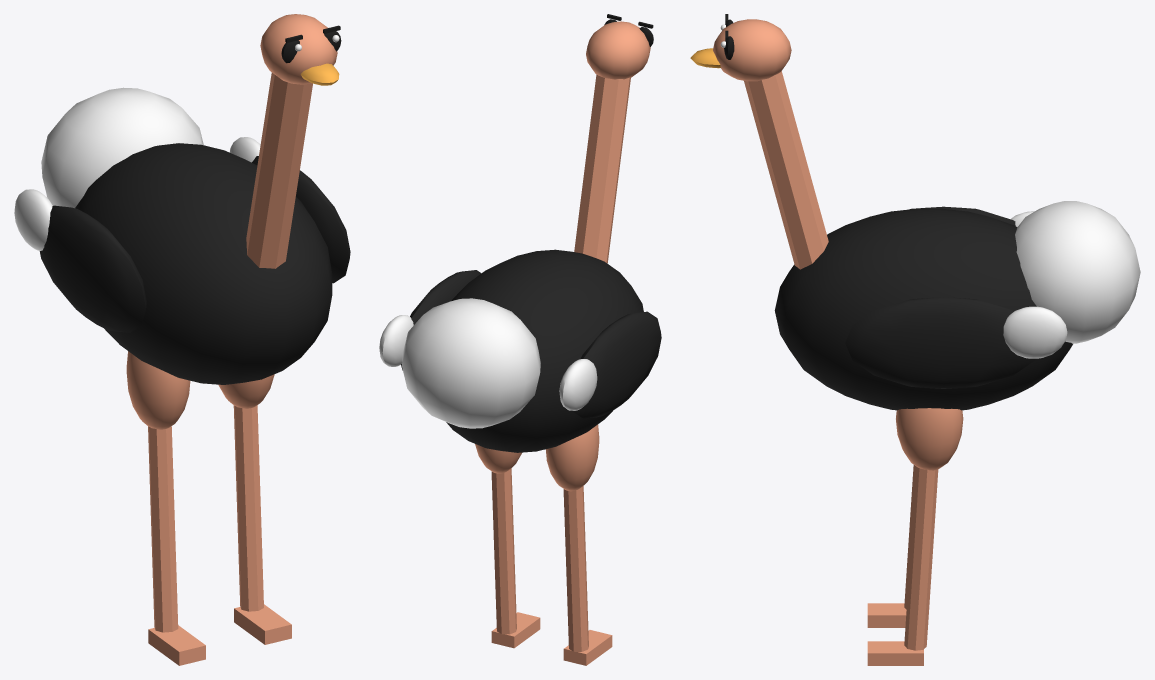
Rendered from roadevents_ostrich.glb.
3 renders of one model, left to right at view 1: azimuth 30°, elevation 25°; view 2: azimuth 150°, elevation 25°; view 3: azimuth 270°, elevation 25°, orthographic. The views are drawn at different scales.
Visible parts, largest first — view 1: Body.002, Arm_R.003, Leg_R.001, Leg_L.001, Arm_L.003; view 2: Body.002, Arm_R.003, Leg_R.001, Leg_L.001, Arm_L.003; view 3: Body.002, Arm_L.003, Leg_L.001, Leg_R.001.
Boxes of the visible parts, x1,y1,x2,y2 form: Body.002: (41, 14, 341, 384); Arm_R.003: (14, 189, 146, 332); Leg_R.001: (126, 351, 205, 665); Leg_L.001: (218, 374, 291, 644); Arm_L.003: (229, 137, 350, 283); Body.002: (402, 14, 653, 452); Arm_R.003: (559, 311, 661, 418); Leg_R.001: (545, 424, 612, 665); Leg_L.001: (475, 444, 540, 648); Arm_L.003: (379, 270, 481, 370); Body.002: (690, 14, 1140, 410); Arm_L.003: (845, 297, 1067, 388); Leg_L.001: (867, 408, 963, 665); Leg_R.001: (867, 465, 915, 627).
Bounding box in the file's own units: 0.9 × 2.42 × 1.6.
